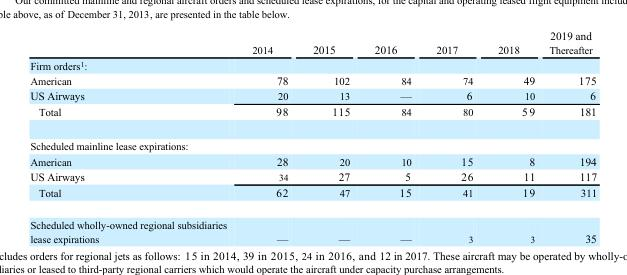table: (29, 29, 596, 243)
table column: (29, 29, 238, 243), (299, 29, 361, 243), (361, 29, 423, 243), (238, 29, 299, 243), (423, 29, 484, 243), (484, 29, 541, 243), (541, 29, 596, 243)
table column header: (29, 29, 596, 57)
table projected row header: (29, 128, 596, 153), (29, 57, 596, 72)
table row: (29, 208, 596, 243), (29, 29, 596, 57), (29, 103, 596, 128), (29, 128, 596, 153), (29, 184, 596, 208), (29, 87, 596, 103), (29, 168, 596, 184), (29, 57, 596, 72), (29, 72, 596, 87), (29, 153, 596, 168)
